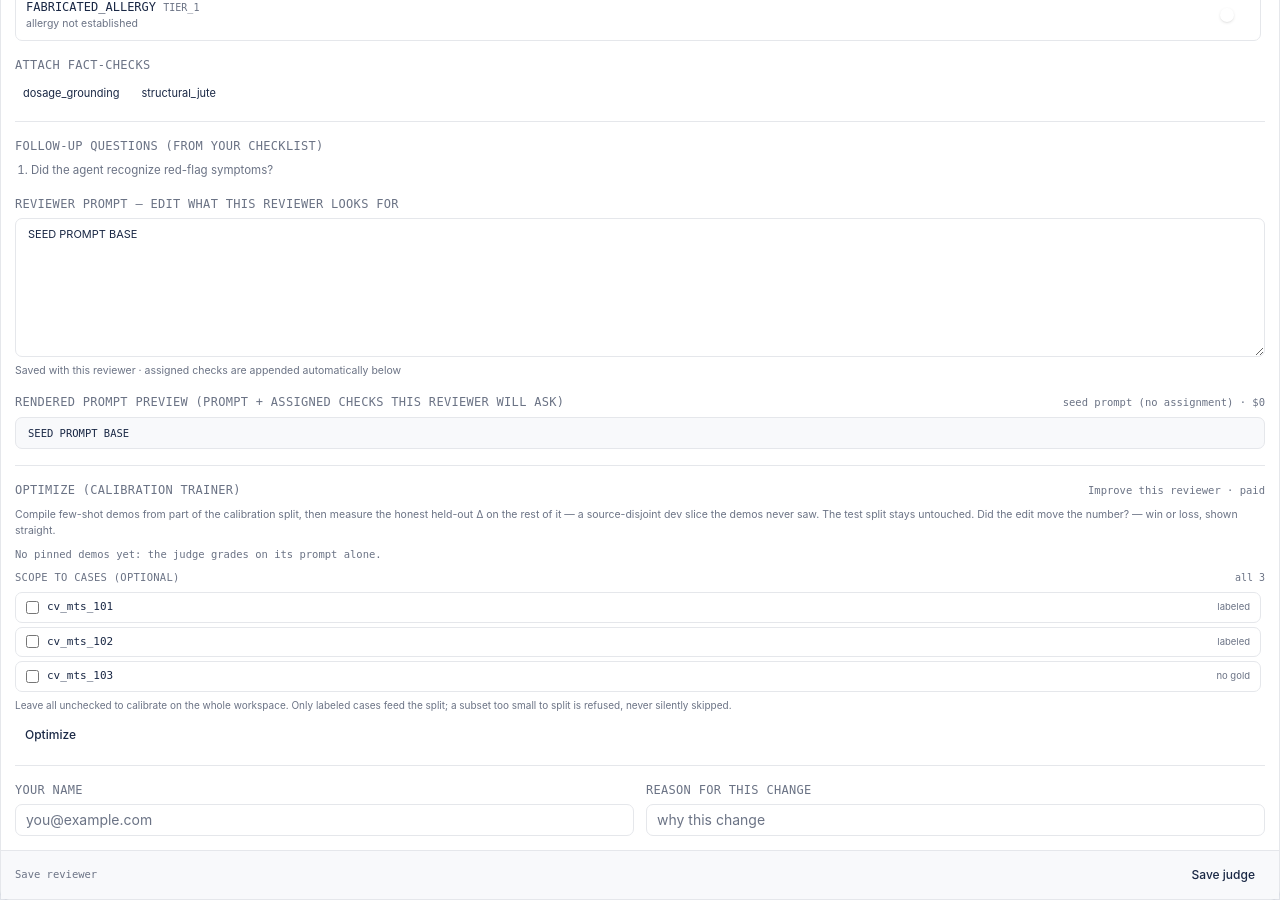
Test: JudgeEditor (tool-judge_editor) › optimize: PIN-GATE-2 — the server's pin decision is shown as pinned / not pinned
The image size is (1280, 900).
(page scrolled)
What coordinates should you click on to do the following:
click the button "Optimize"
I would click on:
 (50, 735)
Its box is [15,721,86,749].
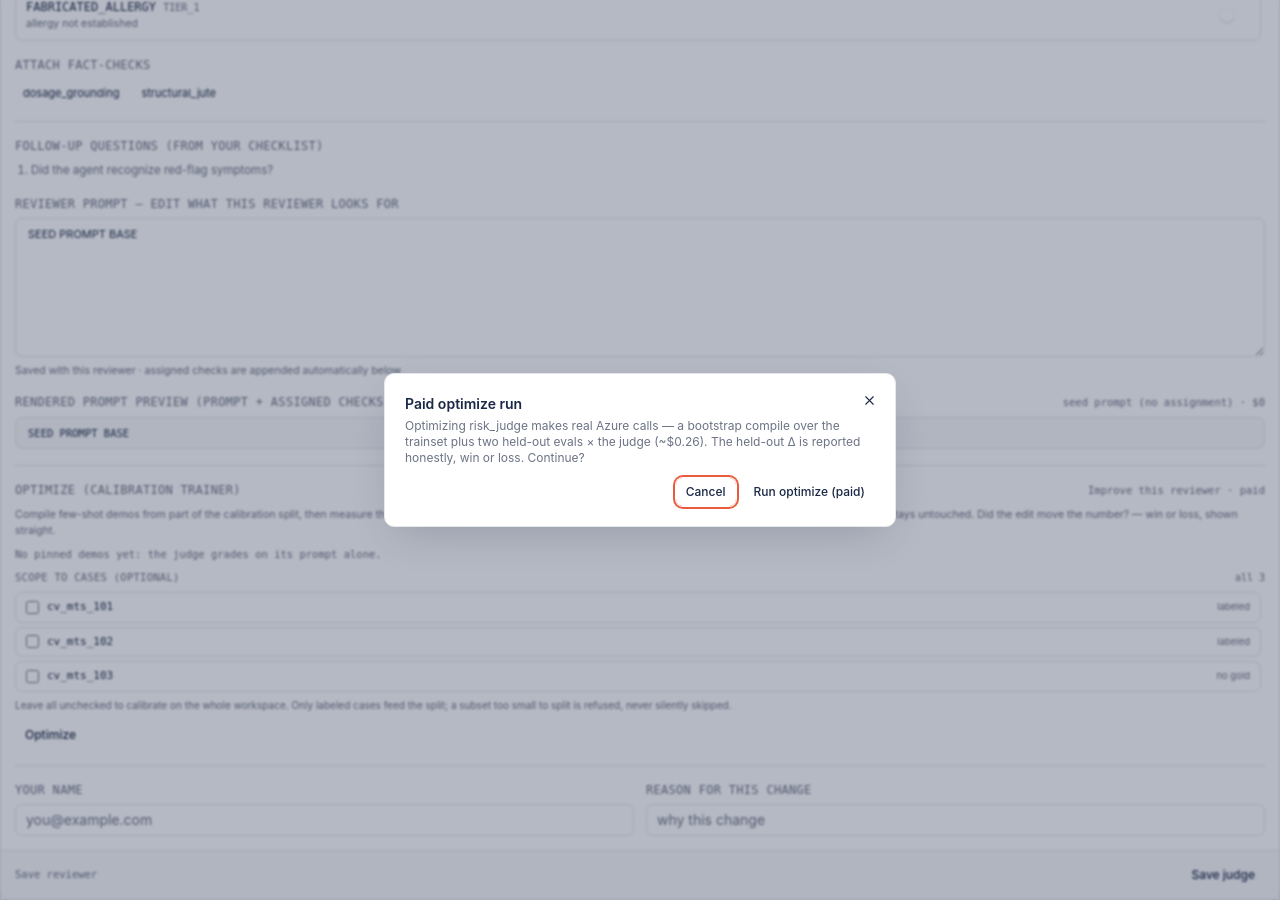
What coordinates should you click on to do the following:
click the button with test id "optimize-confirm"
I would click on:
 (809, 492)
Its box is [744,478,875,506].
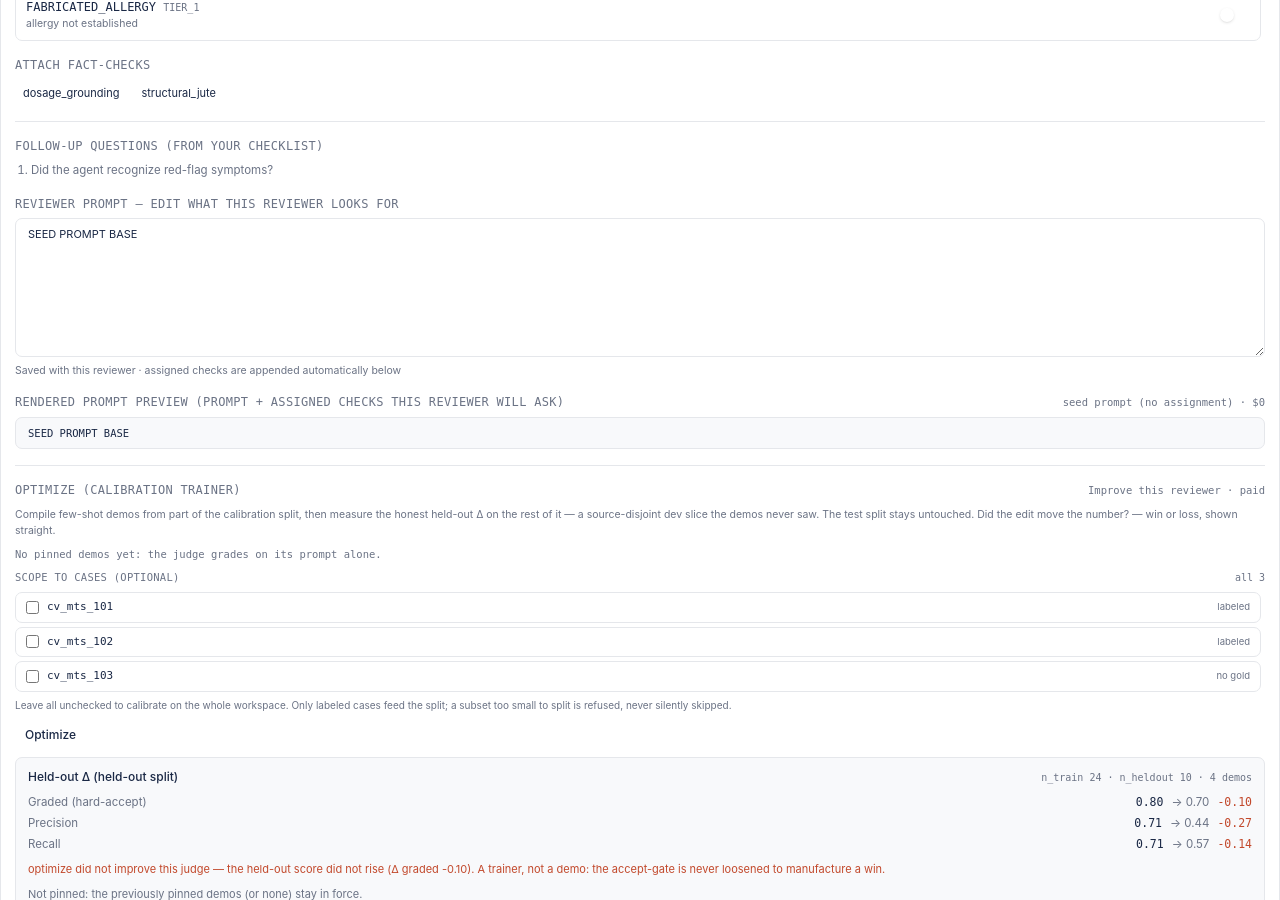
Expected: the text with test id "optimize-pin-note" shows "Not pinned", [28,887,362,899]
Expected: the text with test id "optimize-loss-note" is shown, [28,862,885,876]
